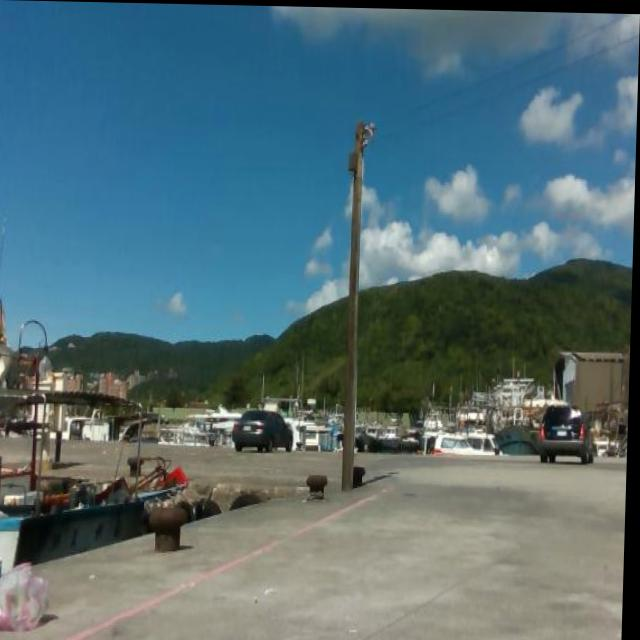pollute: (0, 560, 55, 634)
